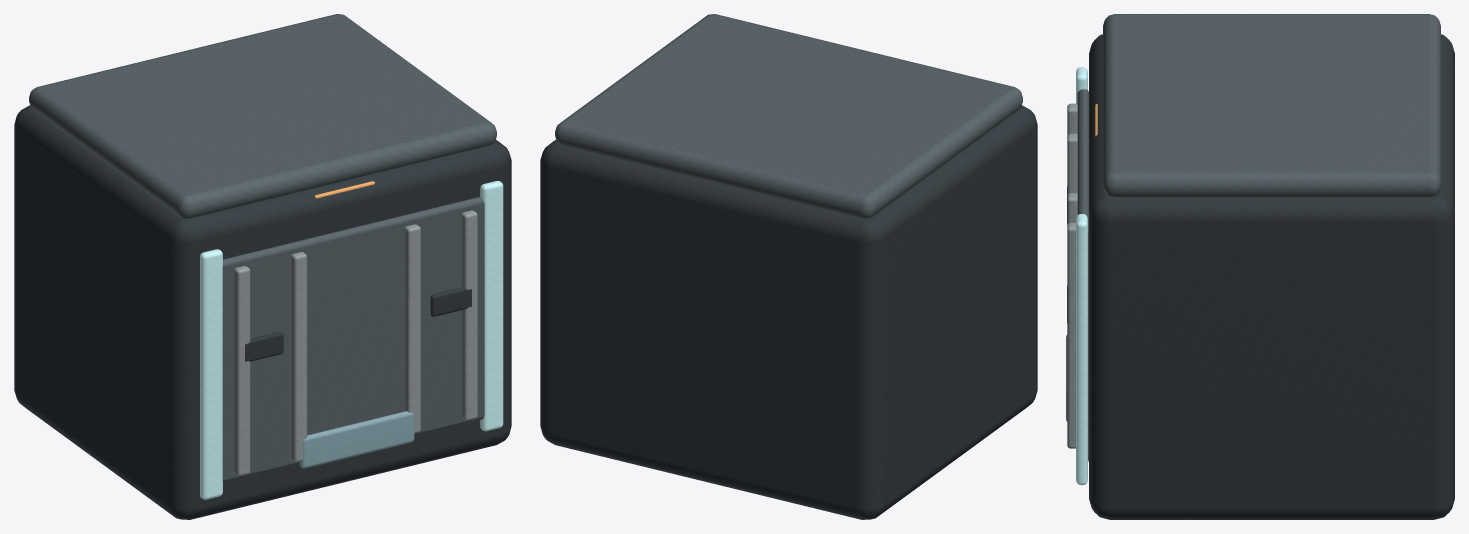
Rendered from CargoCrate.glb.
3 renders of one model, left to right at view 1: azimuth 30°, elevation 25°; view 2: azimuth 150°, elevation 25°; view 3: azimuth 270°, elevation 25°, orthographic. The views are drawn at different scales.
Visible parts, largest first — view 1: CargoCrate_Mesh; view 2: CargoCrate_Mesh; view 3: CargoCrate_Mesh.
Part boxes in pixels (x1,y1,x2,y2): CargoCrate_Mesh: [14, 14, 511, 519]; CargoCrate_Mesh: [540, 14, 1037, 519]; CargoCrate_Mesh: [1066, 14, 1454, 519].
Bounding box in the file's own units: 0.9 × 0.81 × 0.829.
6 materials, 6 textured.
